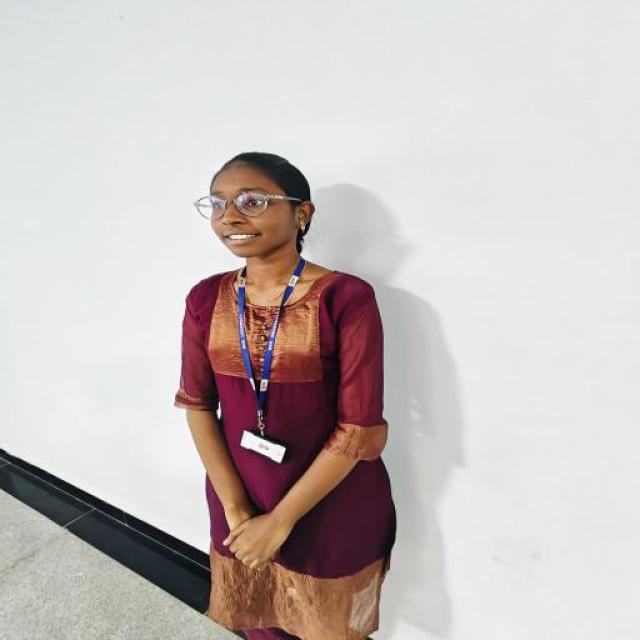Card: (240, 429, 286, 462)
Id strap: (258, 258, 304, 434)
